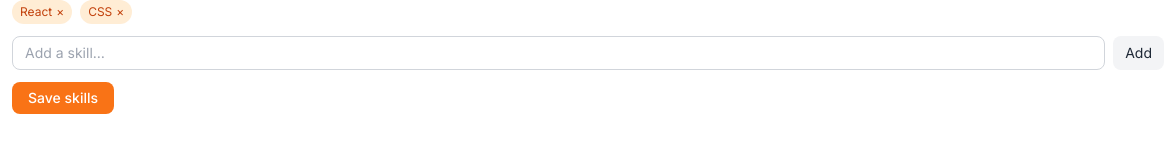
Test case: SkillsEditor › removes a skill when its remove button is clicked
The image size is (1176, 160).
Click the button named "Remove React": (60,12) [56,4,64,20]
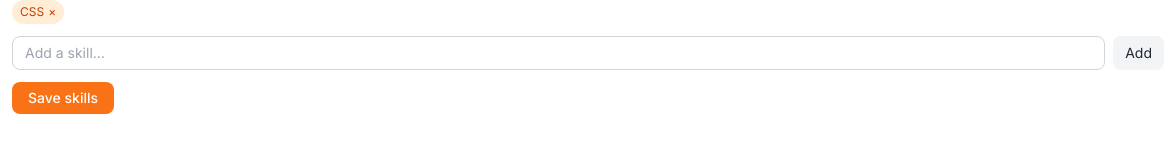
Expected: the text "CSS" is shown, [20,4,44,19]
Now the text "React" is gone
